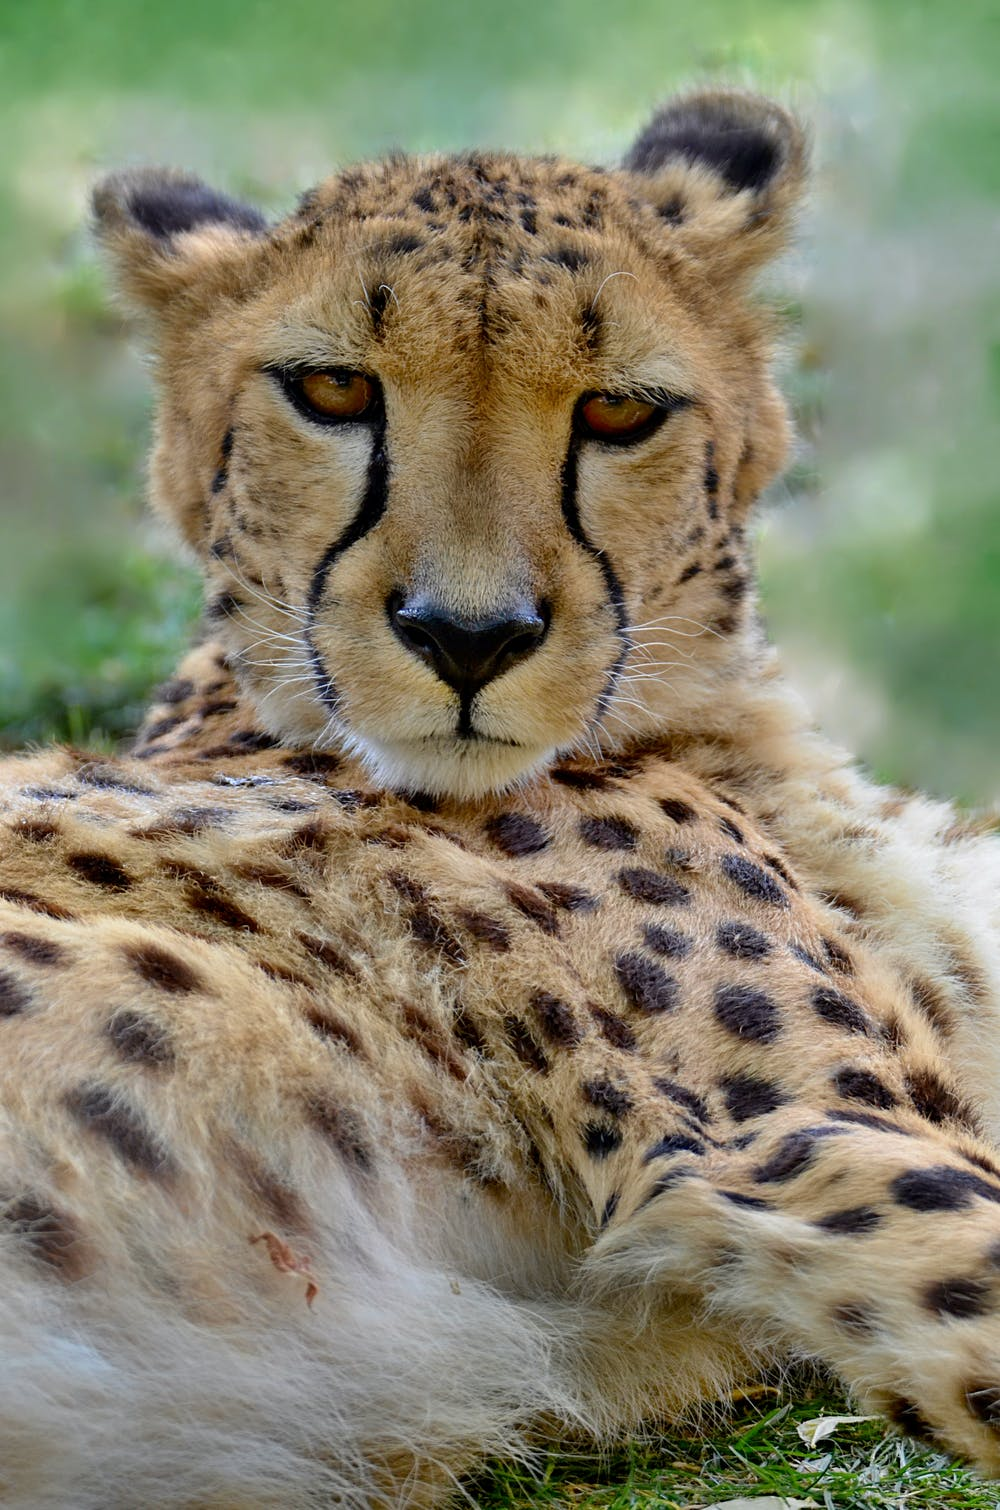cheetah: (47, 56, 873, 828)
